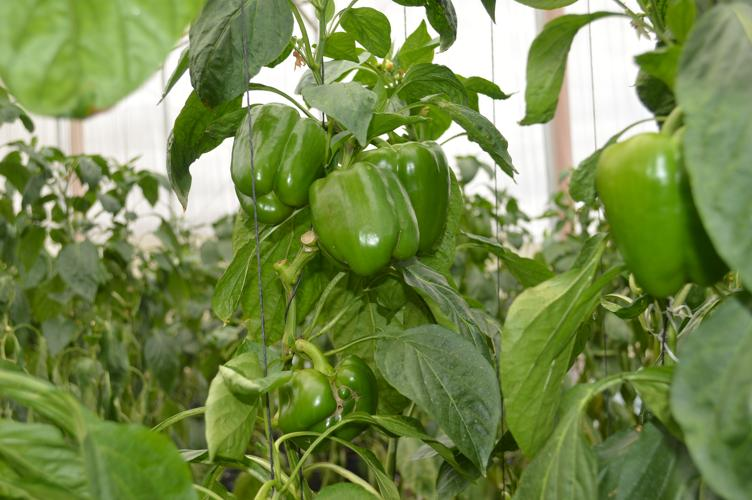BellPepper: (588, 127, 735, 292), (307, 166, 415, 263), (234, 104, 321, 218), (367, 137, 451, 254), (277, 357, 382, 441)
